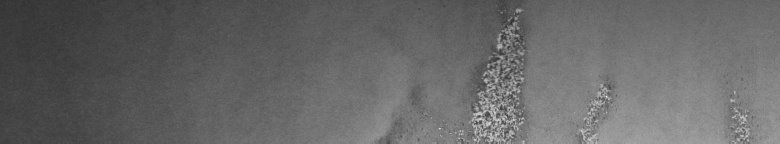hc: (387, 4, 617, 136)
